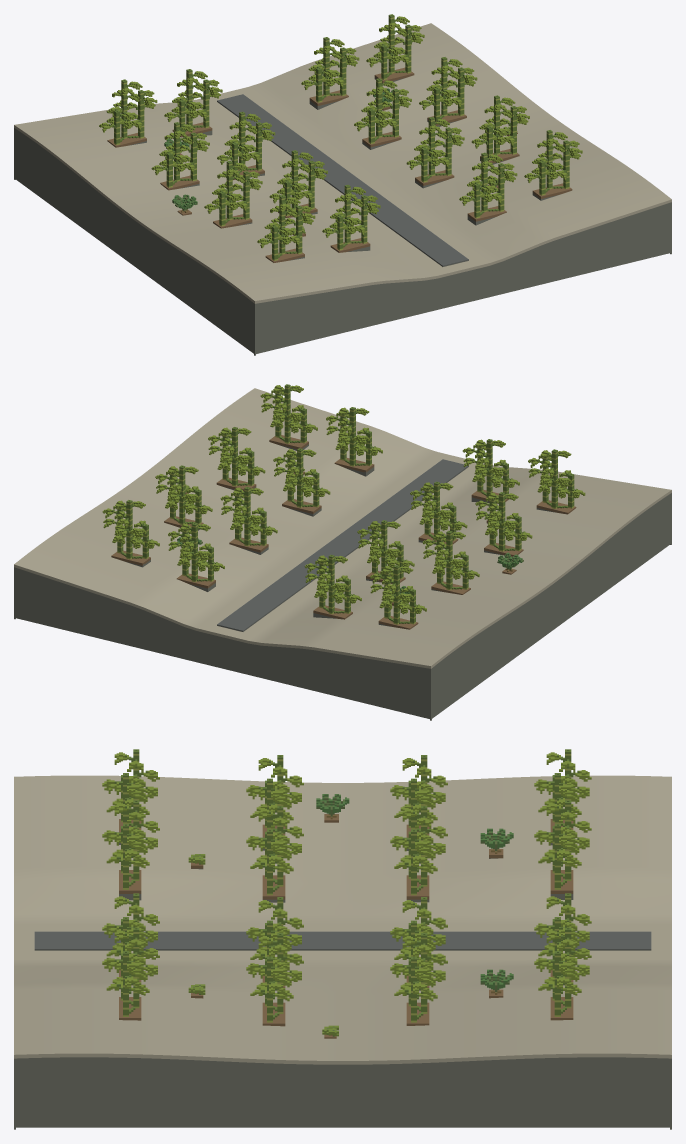
The picture shows the model from 3 angles, top to bottom: view 1: azimuth 30°, elevation 25°; view 2: azimuth 150°, elevation 25°; view 3: azimuth 270°, elevation 25°; orthographic projection. The views are drawn at different scales.
Visible parts, largest first — view 1: 连续岩土实体与最小原生岩块, 竹竿竹节与叶簇母版 (×16), 真实实体路基与连续坡面; view 2: 连续岩土实体与最小原生岩块, 竹竿竹节与叶簇母版 (×16), 真实实体路基与连续坡面; view 3: 连续岩土实体与最小原生岩块, 竹竿竹节与叶簇母版 (×16), 真实实体路基与连续坡面.
Boxes of the visible parts, x1,y1,x2,y2 form: 连续岩土实体与最小原生岩块: [14, 23, 671, 355]; 竹竿竹节与叶簇母版 (×16): [99, 14, 582, 260]; 真实实体路基与连续坡面: [217, 94, 468, 266]; 连续岩土实体与最小原生岩块: [14, 388, 671, 720]; 竹竿竹节与叶簇母版 (×16): [102, 384, 585, 624]; 真实实体路基与连续坡面: [217, 459, 468, 631]; 连续岩土实体与最小原生岩块: [14, 775, 671, 1129]; 竹竿竹节与叶簇母版 (×16): [102, 749, 591, 1022]; 真实实体路基与连续坡面: [34, 931, 651, 950].
Bounding box in the file's own units: 64 × 16 × 64.
11 materials, 11 textured.
